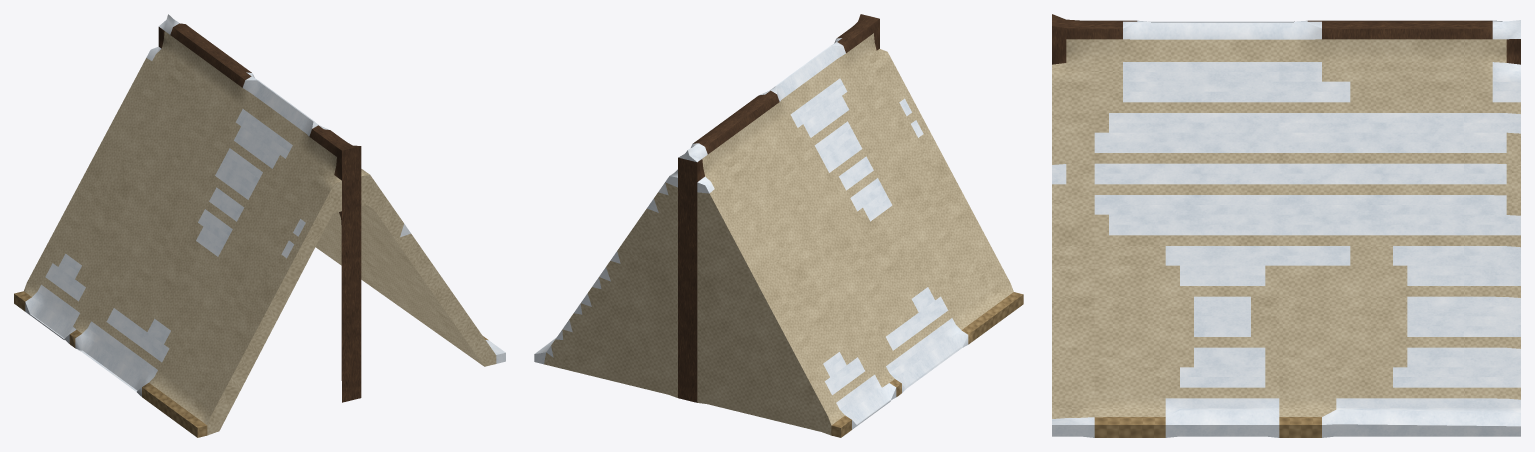
The model's file is prop_tent_snow.glb.
The picture shows the model from 3 angles, left to right: view 1: azimuth 30°, elevation 25°; view 2: azimuth 150°, elevation 25°; view 3: azimuth 270°, elevation 25°; orthographic projection. The views are drawn at different scales.
Visible parts, largest first — view 1: wilds_prop_tent_snow; view 2: wilds_prop_tent_snow; view 3: wilds_prop_tent_snow.
Part boxes in pixels (box(x1,y1,x2,y2)): wilds_prop_tent_snow: box(14, 14, 505, 437); wilds_prop_tent_snow: box(534, 14, 1023, 437); wilds_prop_tent_snow: box(1052, 14, 1520, 437).
Bounding box in the file's own units: 2.5 × 1.95 × 2.58.
1 material, 1 textured.
